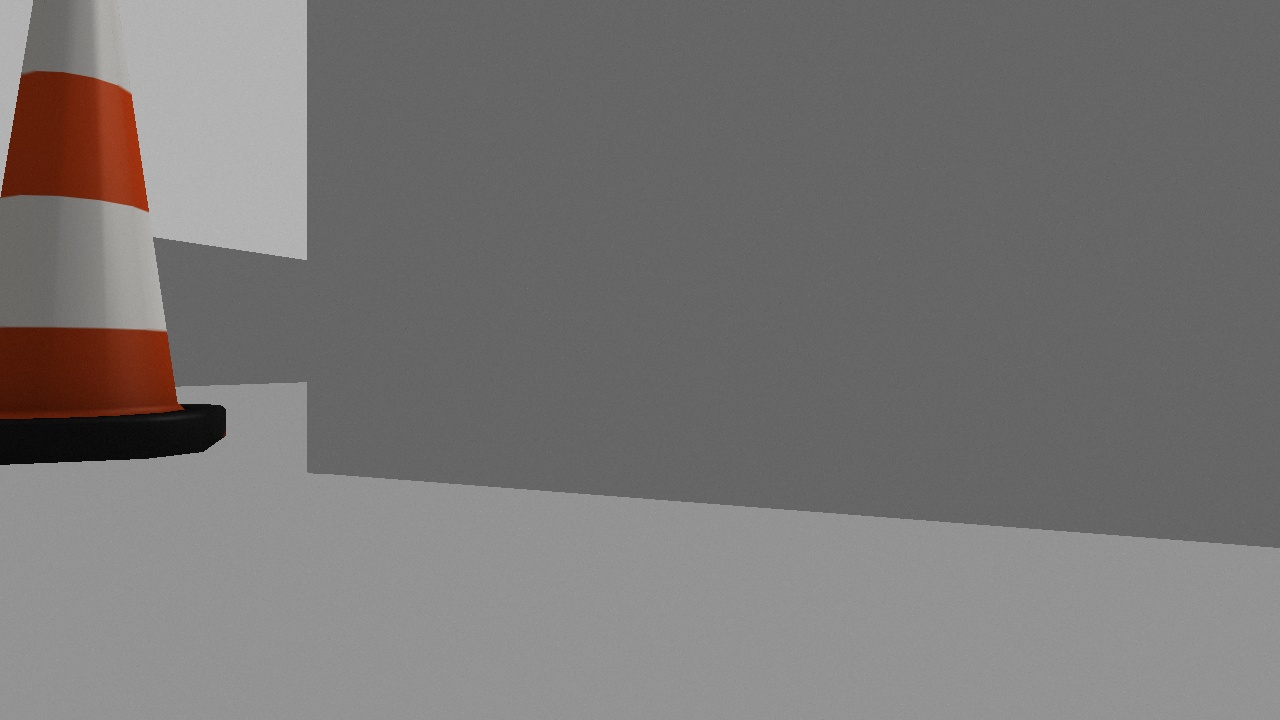barricade: (1, 1, 227, 465)
